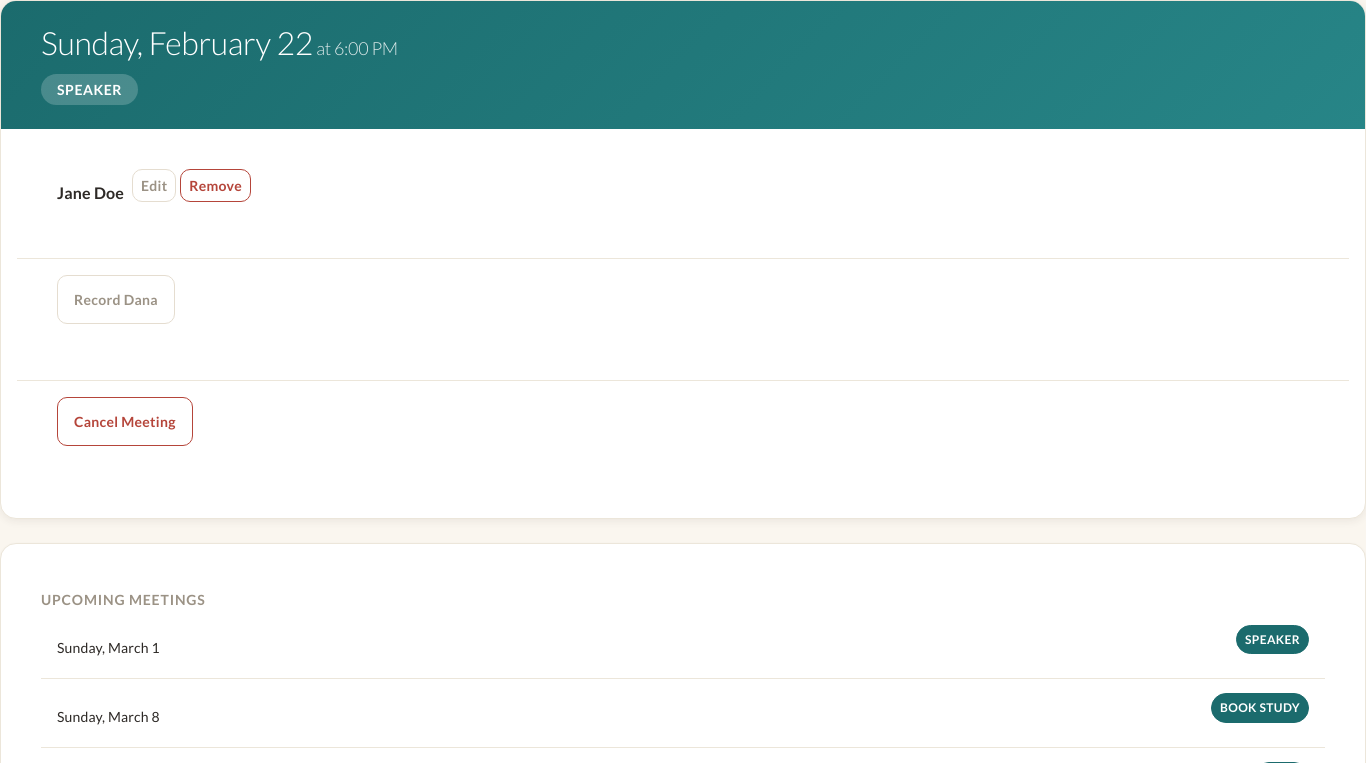
Test: Landing › speaker management › shows toast on remove failure
The image size is (1366, 763).
Click the button with aria-label "Remove speaker": (216, 185) [180,169,251,202]
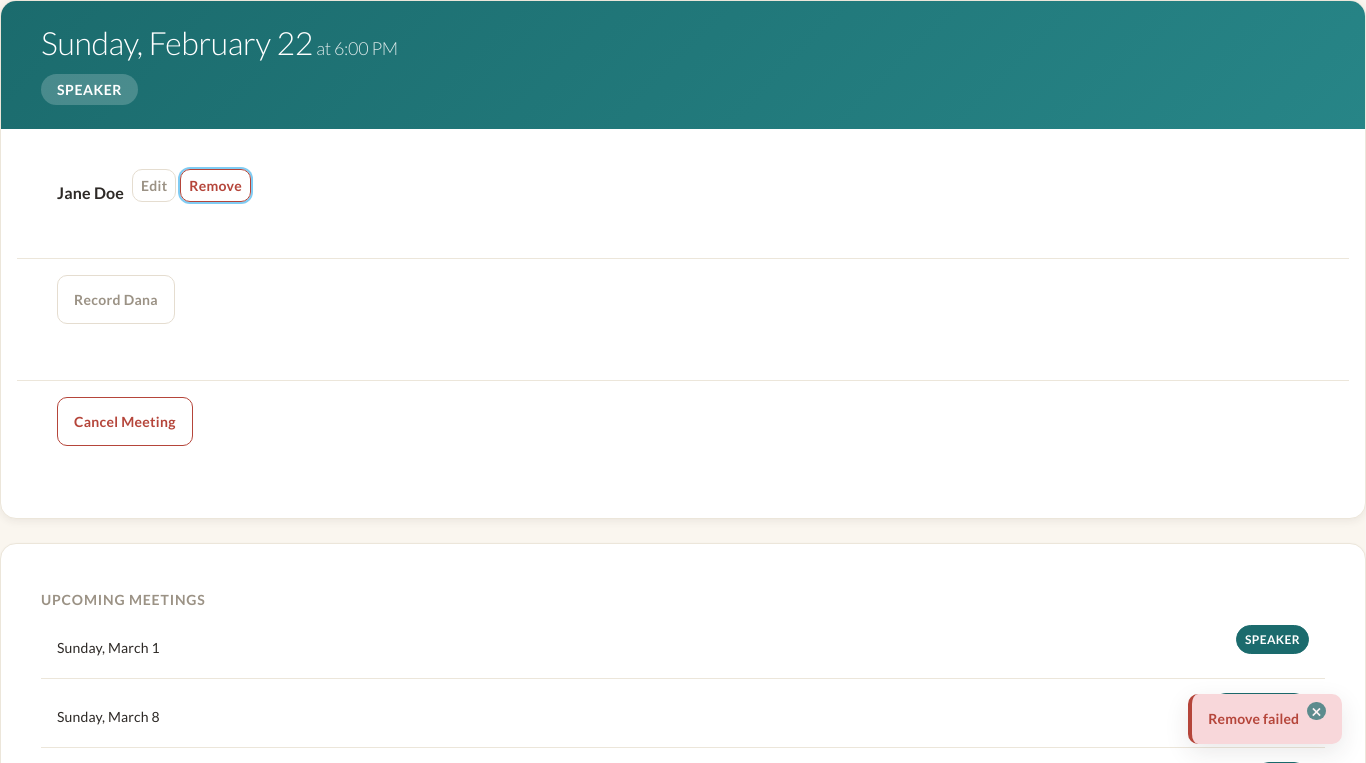
Expected: the text "Remove failed" is shown, [1208,708,1299,731]
